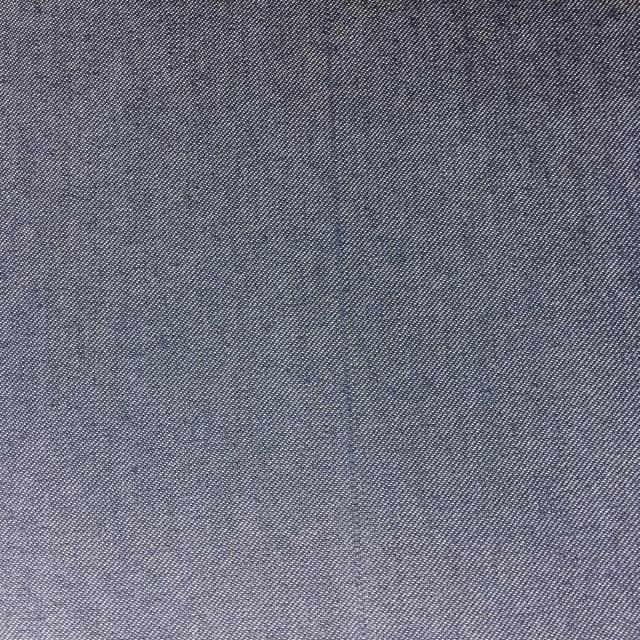Line: (315, 5, 377, 640)
